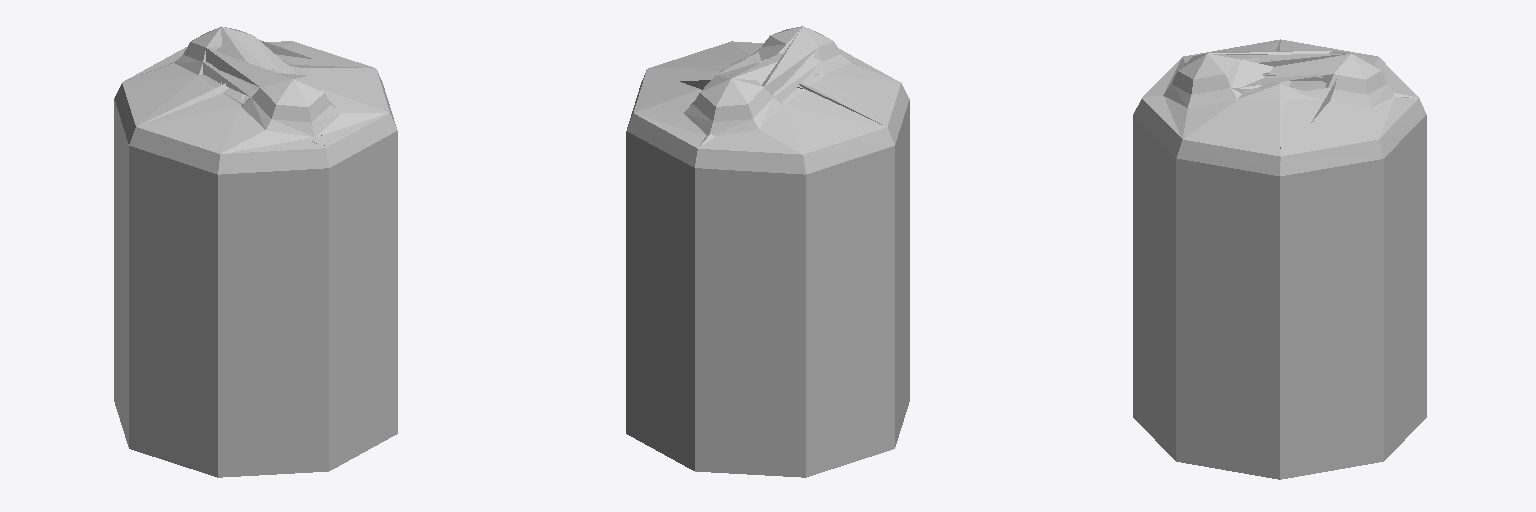
File: Flamethrower ammo.obj
3 views of the same model, side by side, from view 1: azimuth 30°, elevation 25°; view 2: azimuth 150°, elevation 25°; view 3: azimuth 270°, elevation 25° (orthographic).
Parts seen in each view (by area): view 1: __unnamed, _ground_point; view 2: __unnamed, _ground_point; view 3: __unnamed, _ground_point.
Part boxes in pixels (left/top/right/bottom): __unnamed: left=114, top=26, right=397, bottom=477; _ground_point: left=114, top=27, right=358, bottom=147; __unnamed: left=626, top=26, right=909, bottom=477; _ground_point: left=651, top=26, right=894, bottom=173; __unnamed: left=1133, top=39, right=1426, bottom=479; _ground_point: left=1144, top=40, right=1416, bottom=148.
Bounding box in the file's own units: 8.93 × 13.64 × 8.93.